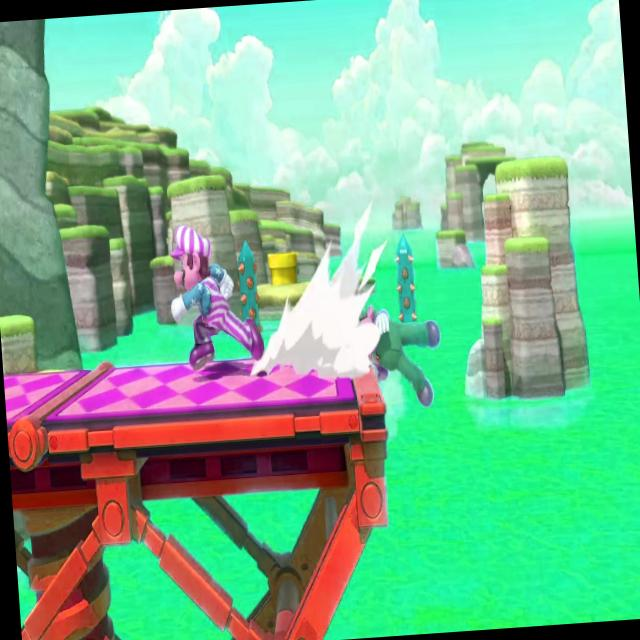Mario: (158, 215, 268, 378)
Mario-LH: (334, 290, 449, 418)
